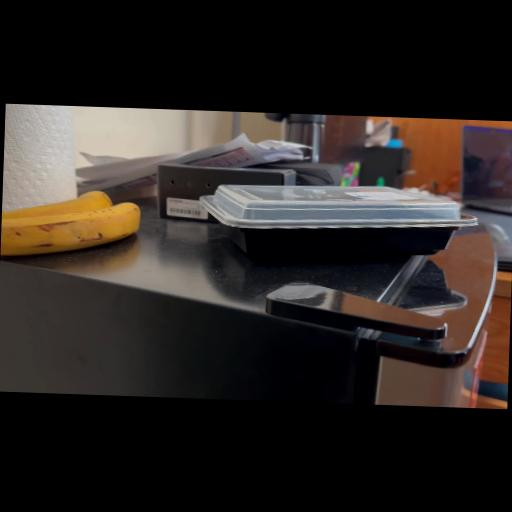rigid_plastic_container: (197, 167, 478, 271)
